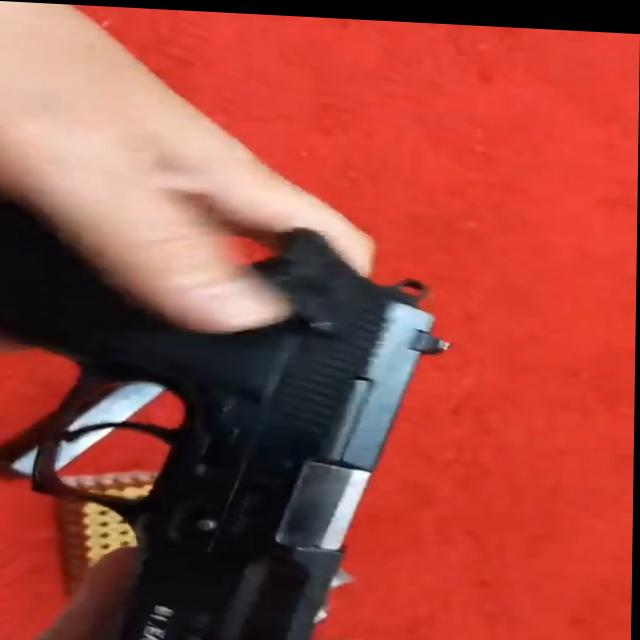handgun: (0, 232, 463, 640)
